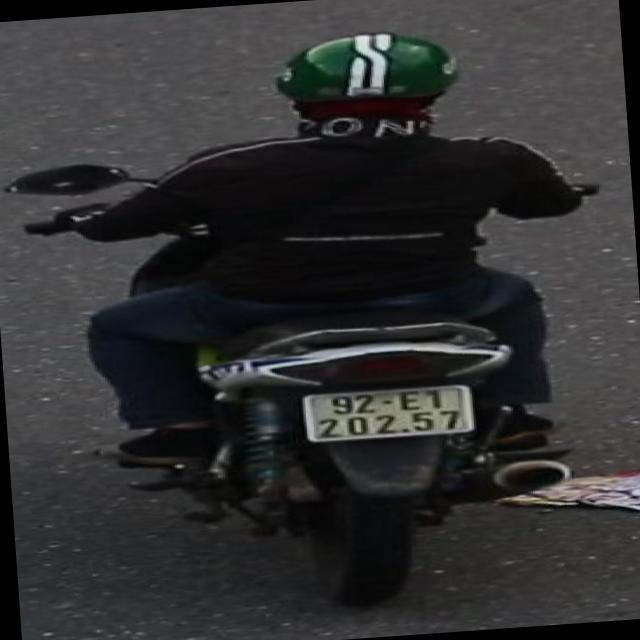LP: (290, 374, 482, 446)
helmet: (266, 23, 469, 151)
